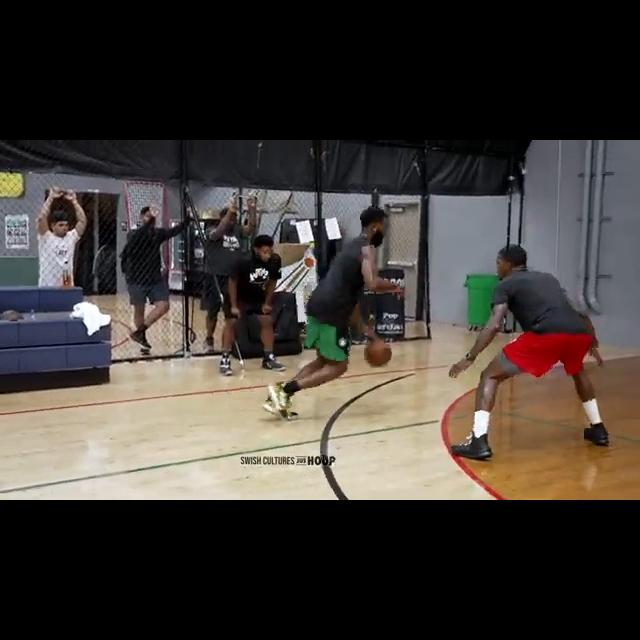basketball: (363, 338, 394, 368)
person: (447, 243, 617, 464), (264, 206, 400, 424), (218, 237, 291, 378), (124, 206, 178, 361), (204, 193, 256, 351), (36, 188, 86, 290)
